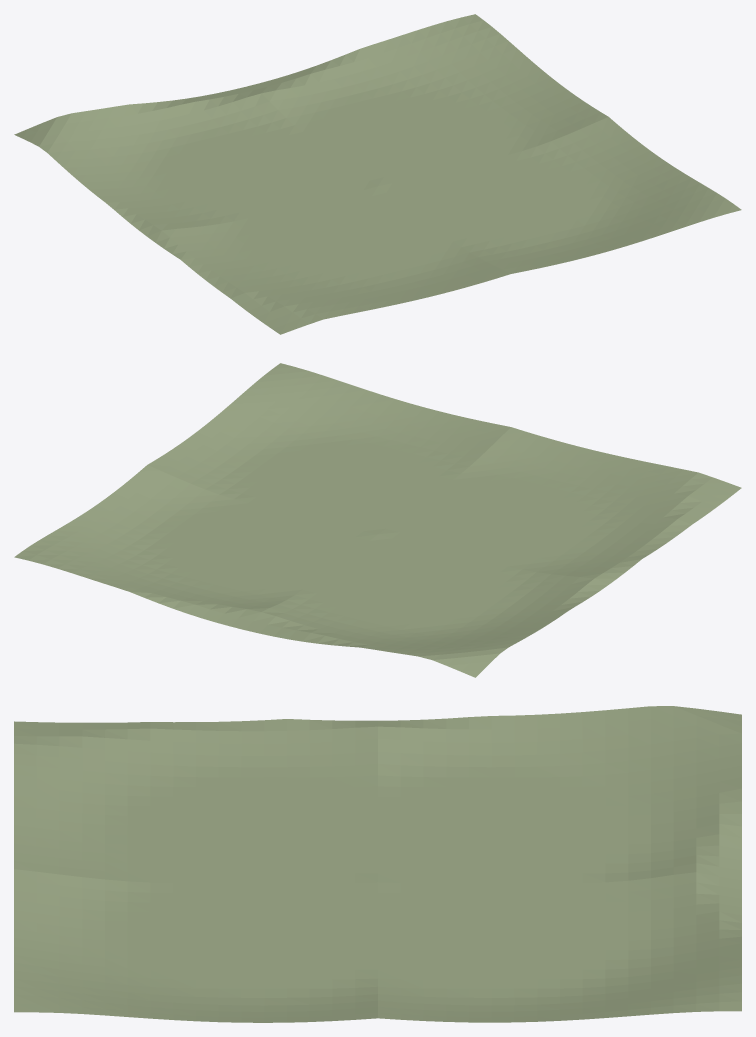
The model's file is gardens-7-3.glb.
The picture shows the model from 3 angles, top to bottom: view 1: azimuth 30°, elevation 25°; view 2: azimuth 150°, elevation 25°; view 3: azimuth 270°, elevation 25°; orthographic projection. The views are drawn at different scales.
Visible parts, largest first — view 1: gardens-7-3; view 2: gardens-7-3; view 3: gardens-7-3.
Part boxes in pixels (x1,y1,x2,y2): gardens-7-3: [14, 14, 741, 334]; gardens-7-3: [14, 363, 741, 677]; gardens-7-3: [14, 706, 741, 1022].
Bounding box in the file's own units: 256 × 10.01 × 256.
